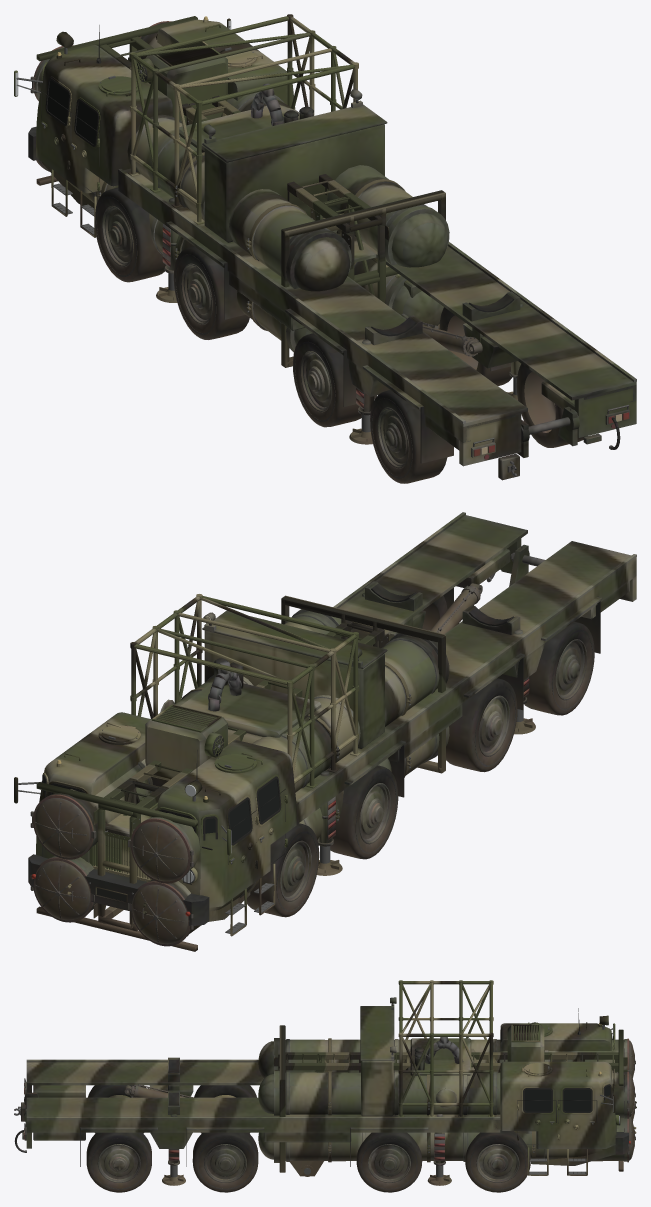
3 views of the same model, one above another, from view 1: azimuth 30°, elevation 25°; view 2: azimuth 150°, elevation 25°; view 3: azimuth 270°, elevation 25° (orthographic). The views are drawn at different scales.
Parts seen in each view (by area): view 1: body|S3_A, cradle|S3_B, body|S3_PA, cradle|S3_PB, body|S3_glassF, cyl0|S3_B, body|S3_steelF; view 2: body|S3_A, cradle|S3_B, body|S3_PA, cradle|S3_PB, body|S3_glassF, cyl0|S3_B, body|S3_rubberF, body|S3_steelF, body|S3_darkF; view 3: body|S3_A, cradle|S3_B, body|S3_PA, cradle|S3_PB, body|S3_glassF, body|S3_rubberF, body|S3_steelF, cyl0|S3_B.
Boxes of the visible parts, box(x1,y1,x2,y2) form: body|S3_A: box(28, 19, 636, 483); cradle|S3_B: box(30, 21, 449, 352); body|S3_PA: box(14, 14, 358, 237); cradle|S3_PB: box(36, 16, 445, 367); body|S3_glassF: box(47, 80, 97, 144); cyl0|S3_B: box(404, 317, 479, 356); body|S3_steelF: box(16, 26, 255, 235); body|S3_A: box(28, 512, 636, 925); cradle|S3_B: box(30, 609, 449, 946); body|S3_PA: box(14, 594, 361, 936); cradle|S3_PB: box(36, 595, 445, 951); body|S3_glassF: box(43, 777, 279, 842); cyl0|S3_B: box(428, 585, 480, 634); body|S3_rubberF: box(41, 774, 281, 850); body|S3_steelF: box(18, 729, 274, 933); body|S3_darkF: box(45, 735, 285, 901); body|S3_A: box(14, 997, 628, 1192); cradle|S3_B: box(258, 1038, 635, 1162); body|S3_PA: box(398, 980, 636, 1175); cradle|S3_PB: box(274, 1025, 627, 1176); body|S3_glassF: box(524, 1036, 613, 1111); body|S3_rubberF: box(523, 1034, 614, 1112); body|S3_steelF: box(524, 1025, 619, 1174); cyl0|S3_B: box(131, 1084, 193, 1097).
Size of the model in its own units: 3.54 by 3.69 by 12.85.
Materials: 27 (11 with a texture image).
